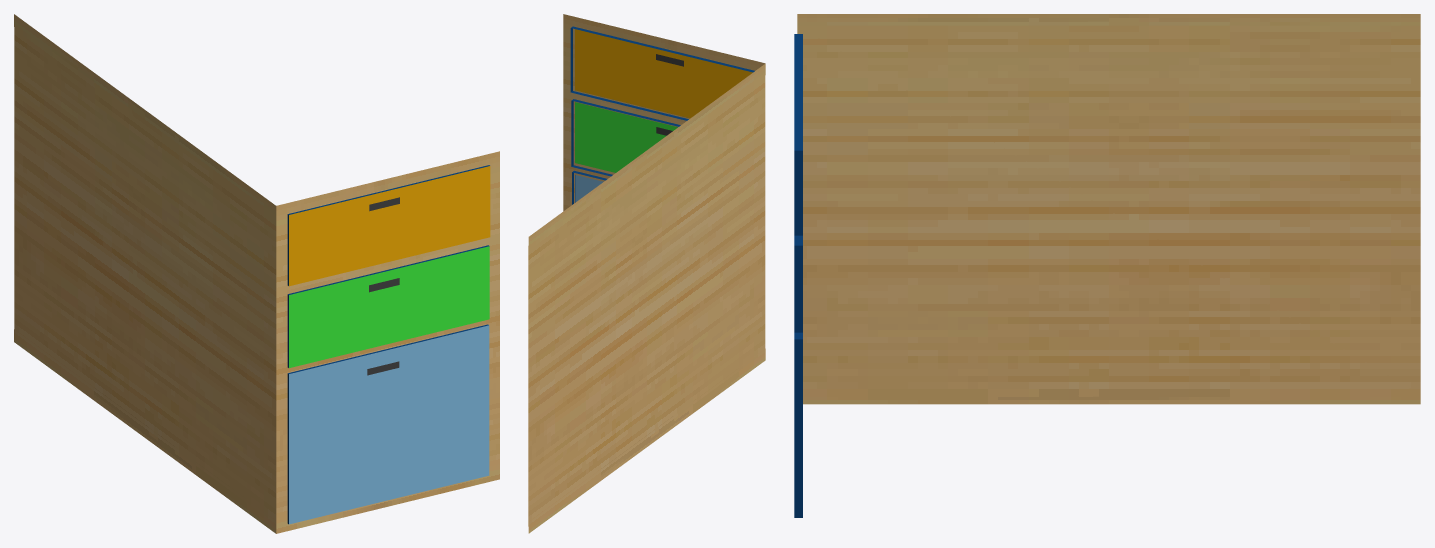
3 views of the same model, side by side, from view 1: azimuth 30°, elevation 25°; view 2: azimuth 150°, elevation 25°; view 3: azimuth 270°, elevation 25° (orthographic). The views are drawn at different scales.
Visible parts, largest first — view 1: Joint_0_Object_0, Joint_0_Object_1; view 2: Joint_0_Object_0, Joint_0_Object_1; view 3: Joint_0_Object_0, Joint_0_Object_1.
Part boxes in pixels (<box>): Joint_0_Object_0: <box>14,14,499,533</box>; Joint_0_Object_1: <box>287,165,490,524</box>; Joint_0_Object_0: <box>528,14,765,533</box>; Joint_0_Object_1: <box>570,26,754,204</box>; Joint_0_Object_0: <box>797,14,1420,404</box>; Joint_0_Object_1: <box>794,34,802,517</box>.
Size of the model in its own units: 1024 by 1436 by 2089.
Materials: 2 (1 with a texture image).
